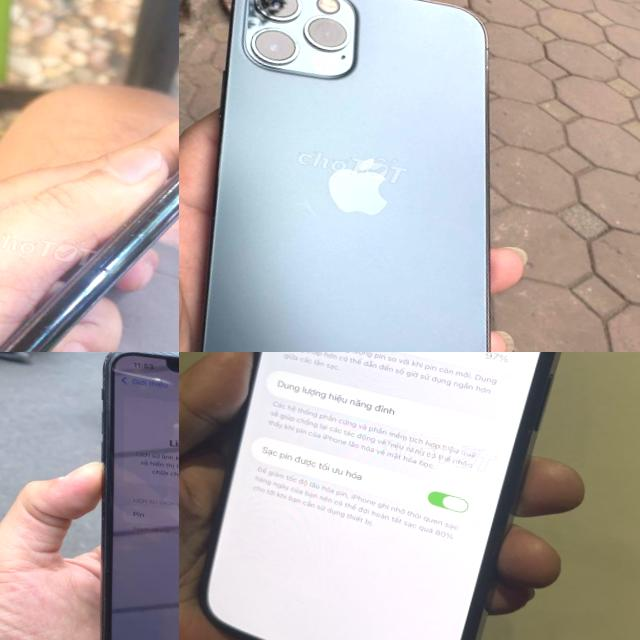gen_11: (0, 27, 179, 352), (38, 352, 179, 640)
gen_12_13: (179, 0, 571, 352)
gen_14: (179, 352, 599, 640)
scratch: (90, 190, 174, 252), (100, 356, 110, 376), (100, 494, 106, 502), (100, 516, 105, 521)
